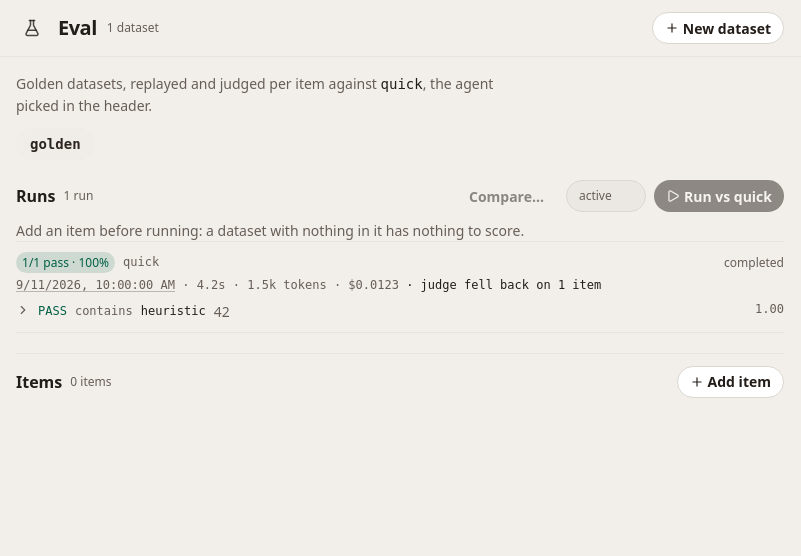
Test case: a run says what it cost, and when its judge did not run › marks the item the heuristic scored, and says why when it is opened
Step 1. Click the button "pass contains heuristic 42 1.00" → (104, 311), box [16,301,784,322]
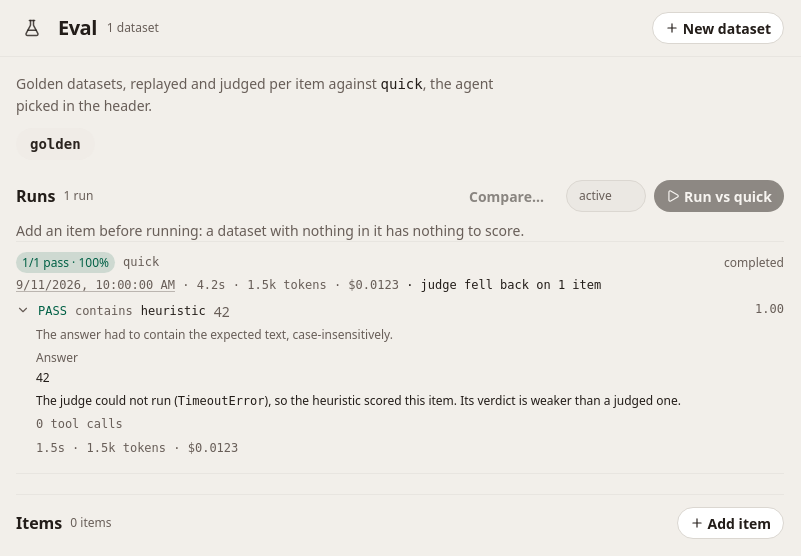
Now the text "so the heuristic scored this item" is shown, box [268,392,681,409]
Now the text "TimeoutError" is shown, box [178,394,264,408]
